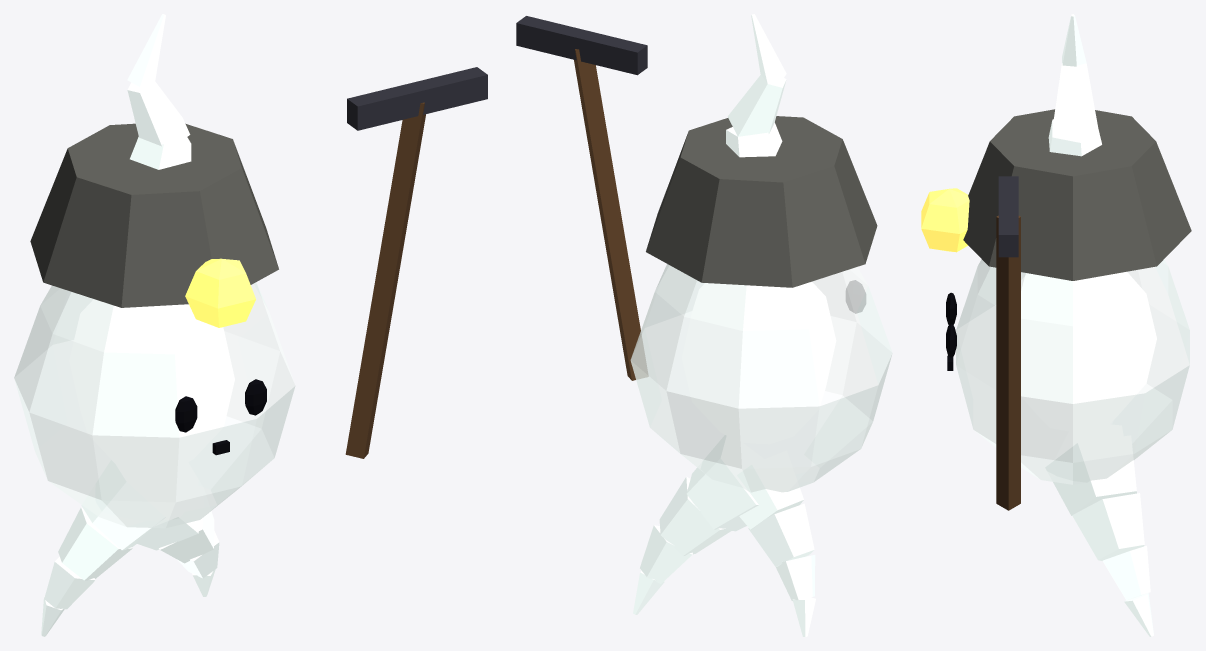
The model's file is soul_fresh_soegol.glb.
3 renders of one model, left to right at view 1: azimuth 30°, elevation 25°; view 2: azimuth 150°, elevation 25°; view 3: azimuth 270°, elevation 25°, orthographic. The views are drawn at different scales.
Parts seen in each view (by area): view 1: soul_fresh_soegol; view 2: soul_fresh_soegol; view 3: soul_fresh_soegol.
Part boxes in pixels (x1,y1,x2,y2): soul_fresh_soegol: (14,14,487,636); soul_fresh_soegol: (516,14,892,636); soul_fresh_soegol: (921,14,1191,636).
Bounding box in the file's own units: 0.9 × 1.3 × 0.5466.
